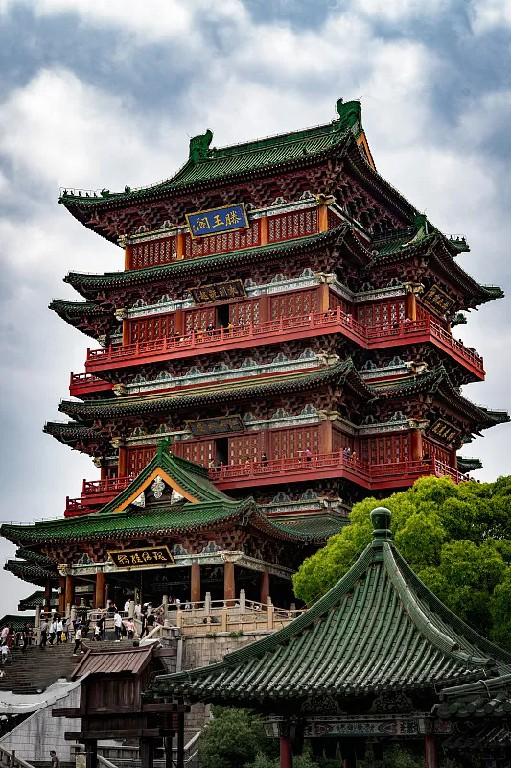Teng: (1, 98, 511, 616)
